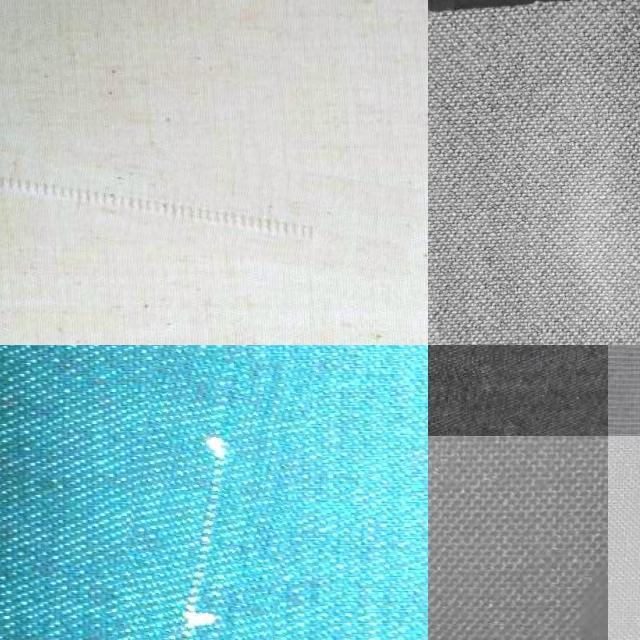Hole: (504, 446, 607, 640)
Thread_other: (0, 123, 416, 261), (113, 349, 301, 640)
